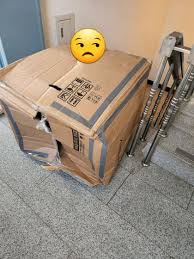damaged package: (27, 102, 105, 186)
